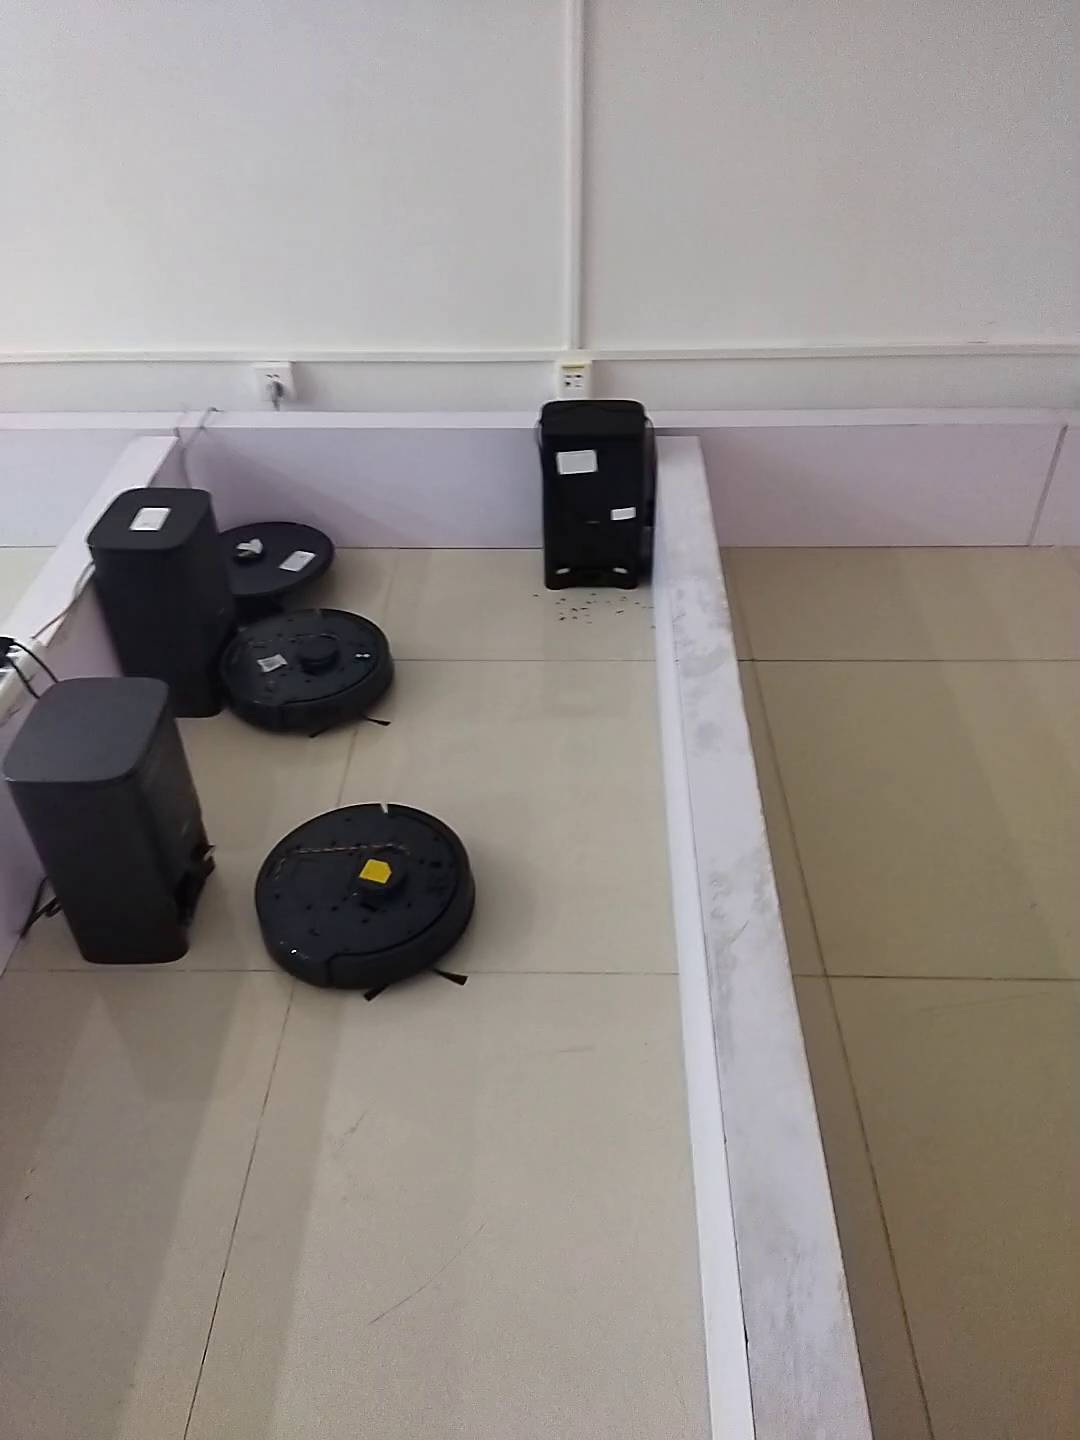dust collecting barrel: (1, 674, 216, 966), (84, 489, 233, 717), (541, 399, 652, 591)
